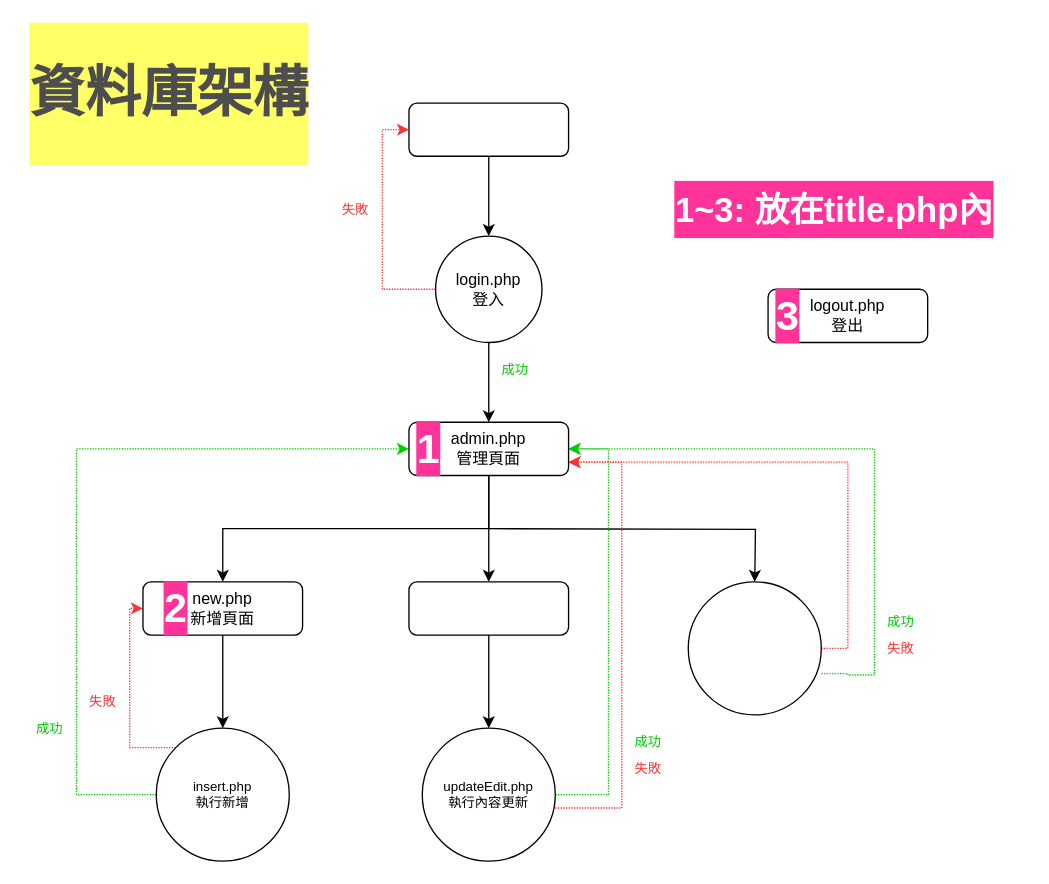
The diagram is 1049 pixels wide and 884 high, and some of its shapes have lost their labels. The centre of each missing label's shape, as x and y in pixels:
delete.php 執行刪除: pixel 754 648
edit.php 編輯頁面: pixel 488 608
index.php 登入頁面: pixel 488 129
